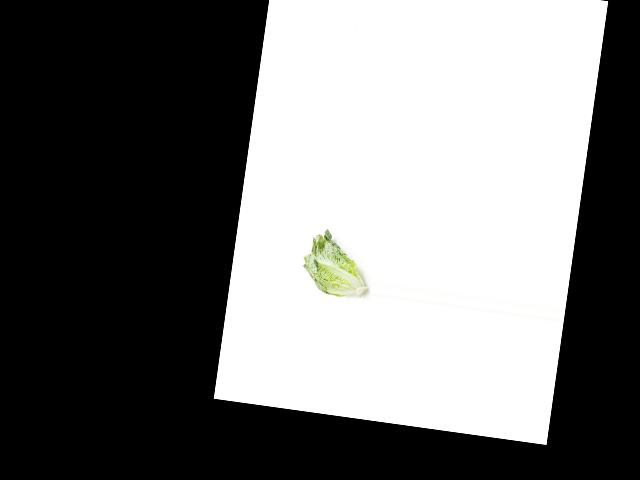lettuce: (296, 227, 373, 302)
